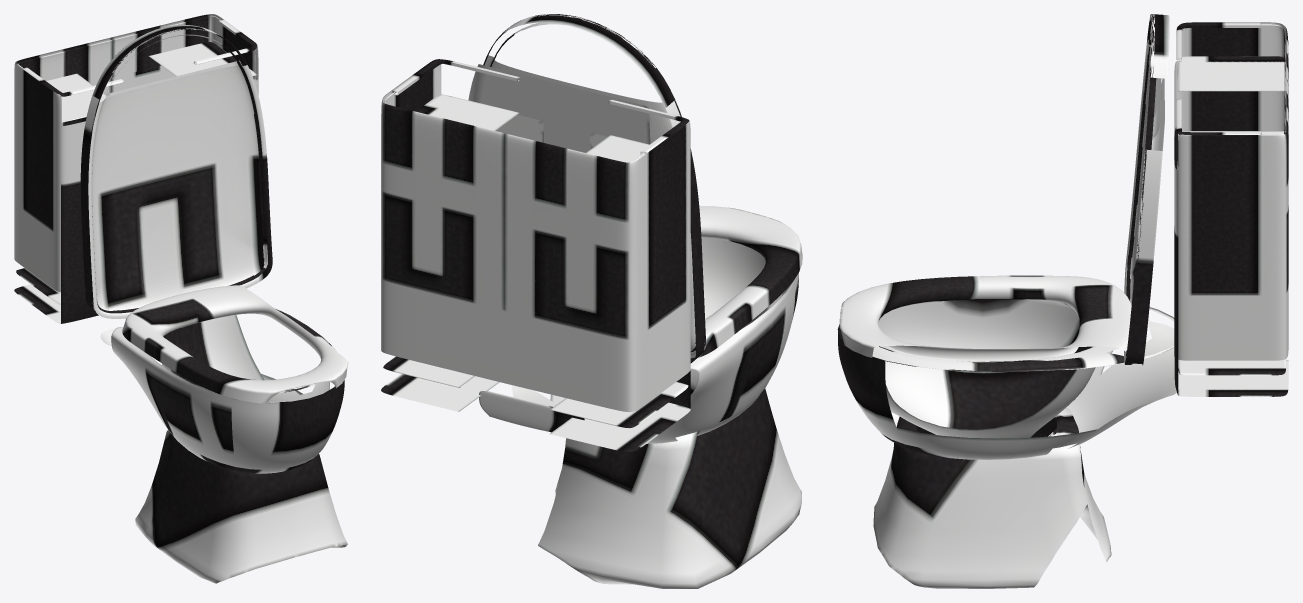
File: cesso.fbx
3 renders of one model, left to right at view 1: azimuth 30°, elevation 25°; view 2: azimuth 150°, elevation 25°; view 3: azimuth 270°, elevation 25°, orthographic. The views are drawn at different scales.
Visible parts, largest first — view 1: Sporte_Plane; view 2: Sporte_Plane; view 3: Sporte_Plane.
Part boxes in pixels (bbox=[...]): Sporte_Plane: bbox=[14, 14, 348, 583]; Sporte_Plane: bbox=[381, 14, 802, 588]; Sporte_Plane: bbox=[837, 14, 1288, 588].
Size of the model in its own units: 44.76 by 97.83 by 76.29.
